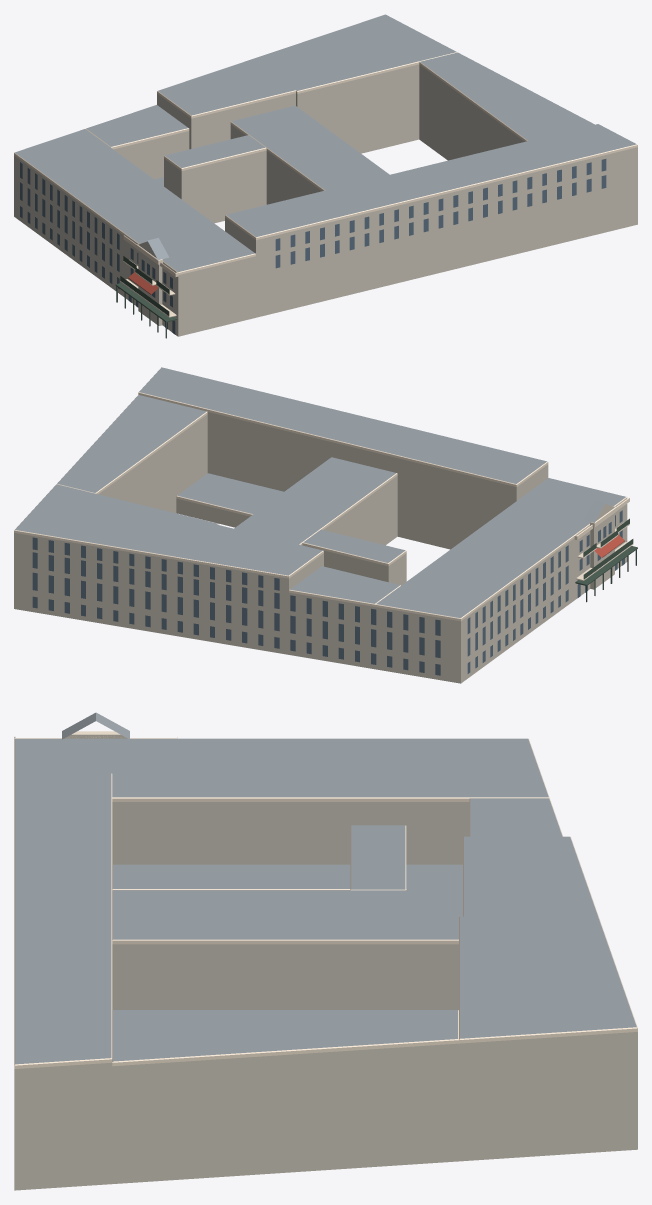
Rendered from sat-menger-hotel.glb.
3 renders of one model, top to bottom at view 1: azimuth 30°, elevation 25°; view 2: azimuth 150°, elevation 25°; view 3: azimuth 270°, elevation 25°, orthographic. The views are drawn at different scales.
Parts seen in each view (by area): view 1: Menger Hotel; view 2: Menger Hotel; view 3: Menger Hotel.
Part boxes in pixels (bbox=[...]): Menger Hotel: bbox=[14, 14, 637, 338]; Menger Hotel: bbox=[14, 367, 637, 683]; Menger Hotel: bbox=[14, 712, 637, 1190].
Size of the model in its own units: 108 by 17.6 by 79.16.
